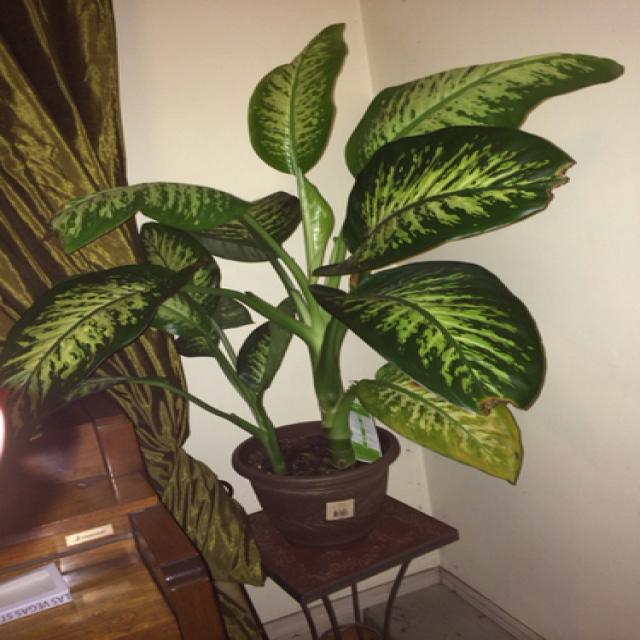dieffenbachia-oVHx: (0, 22, 623, 484), (42, 291, 294, 475), (139, 221, 223, 287)
